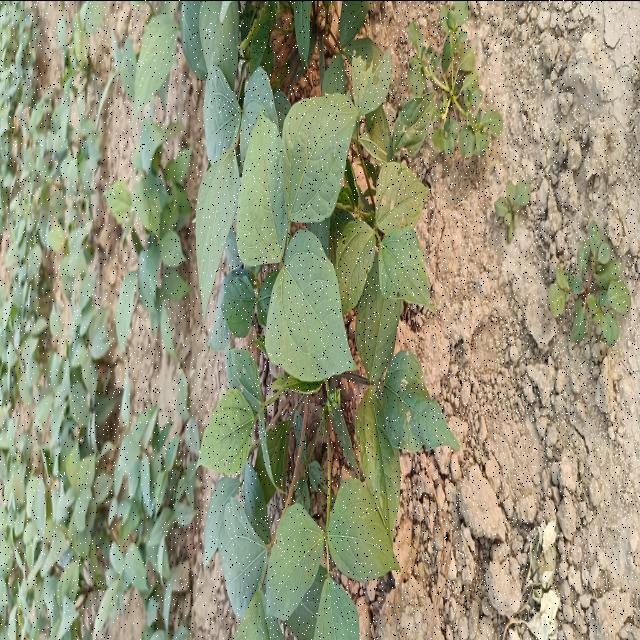plant: (180, 0, 457, 640)
